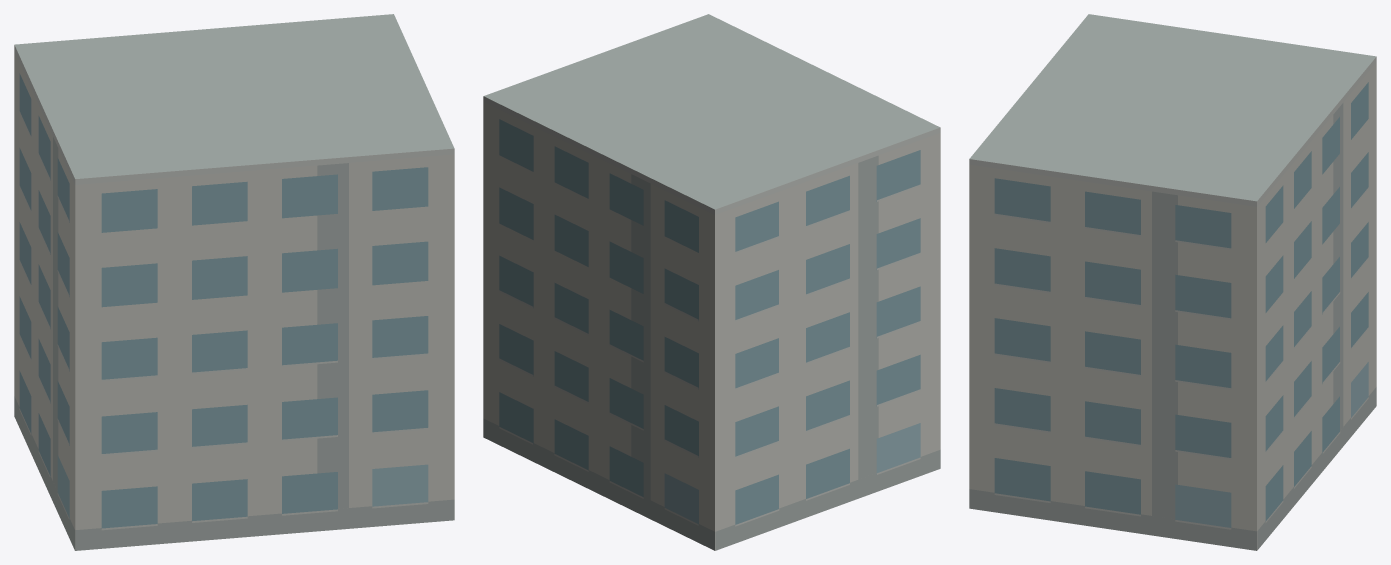
Rendered from residential-a7693685-70b1-4928-9174-4804bdee35b0.glb.
3 renders of one model, left to right at view 1: azimuth 30°, elevation 25°; view 2: azimuth 150°, elevation 25°; view 3: azimuth 270°, elevation 25°, orthographic. The views are drawn at different scales.
Parts seen in each view (by area): view 1: residential-a7693685-70b1-4928-9174-4804bdee35b0.tmp; view 2: residential-a7693685-70b1-4928-9174-4804bdee35b0.tmp; view 3: residential-a7693685-70b1-4928-9174-4804bdee35b0.tmp.
Boxes of the visible parts, left/top/right/bottom form: residential-a7693685-70b1-4928-9174-4804bdee35b0.tmp: left=14, top=14, right=454, bottom=550; residential-a7693685-70b1-4928-9174-4804bdee35b0.tmp: left=483, top=14, right=940, bottom=550; residential-a7693685-70b1-4928-9174-4804bdee35b0.tmp: left=969, top=14, right=1376, bottom=550.
Bounding box in the file's own units: 17.54 × 15.25 × 16.12.
